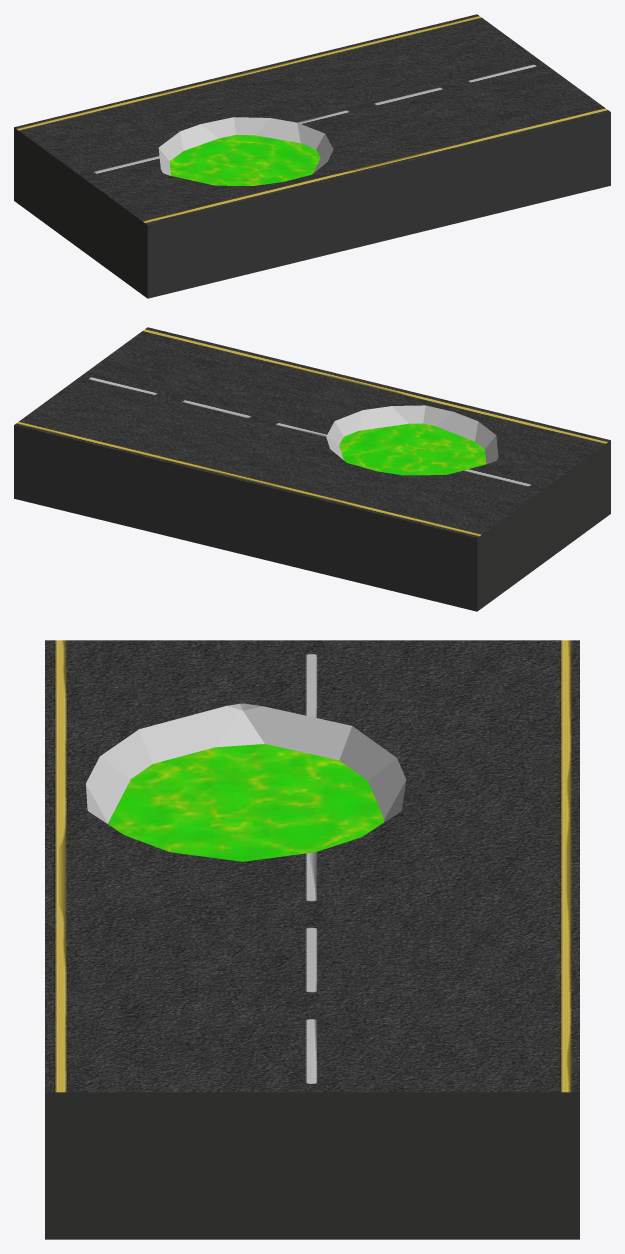
File: Radioactive Road.fbx
3 views of the same model, one above another, from view 1: azimuth 30°, elevation 25°; view 2: azimuth 150°, elevation 25°; view 3: azimuth 270°, elevation 25° (orthographic). The views are drawn at different scales.
Parts seen in each view (by area): view 1: Cube, Circle; view 2: Cube, Circle; view 3: Cube, Circle.
Part boxes in pixels (<box>): Cube: <box>14,14,610,298</box>; Circle: <box>169,135,320,185</box>; Cube: <box>14,327,610,611</box>; Circle: <box>339,423,486,475</box>; Cube: <box>45,640,579,1239</box>; Circle: <box>108,744,384,861</box>.
Bounding box in the file's own units: 200 × 400 × 60.73.
